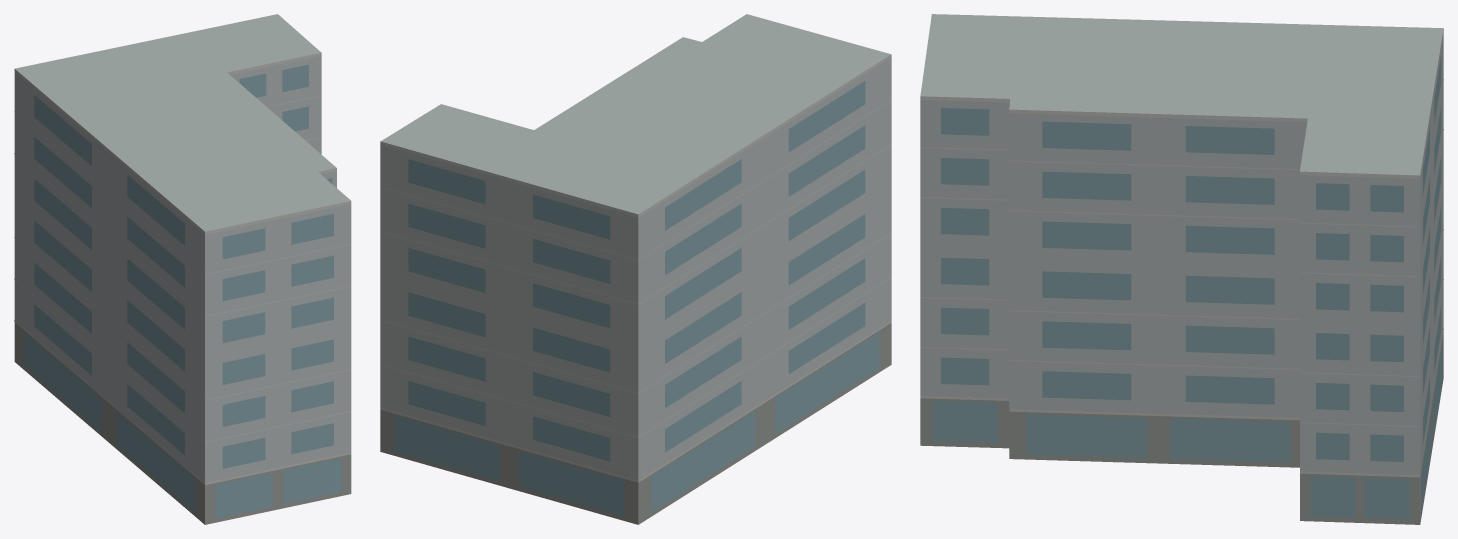
Rendered from survey-upis-33028264.glb.
3 views of the same model, side by side, from view 1: azimuth 30°, elevation 25°; view 2: azimuth 150°, elevation 25°; view 3: azimuth 270°, elevation 25° (orthographic). The views are drawn at different scales.
Visible parts, largest first — view 1: survey-upis-33028264.tmp; view 2: survey-upis-33028264.tmp; view 3: survey-upis-33028264.tmp.
Part boxes in pixels (left/top/right/bottom): survey-upis-33028264.tmp: left=14, top=14, right=351, bottom=524; survey-upis-33028264.tmp: left=380, top=14, right=891, bottom=524; survey-upis-33028264.tmp: left=920, top=14, right=1443, bottom=524.
Bounding box in the file's own units: 22.71 × 22.88 × 31.09.
